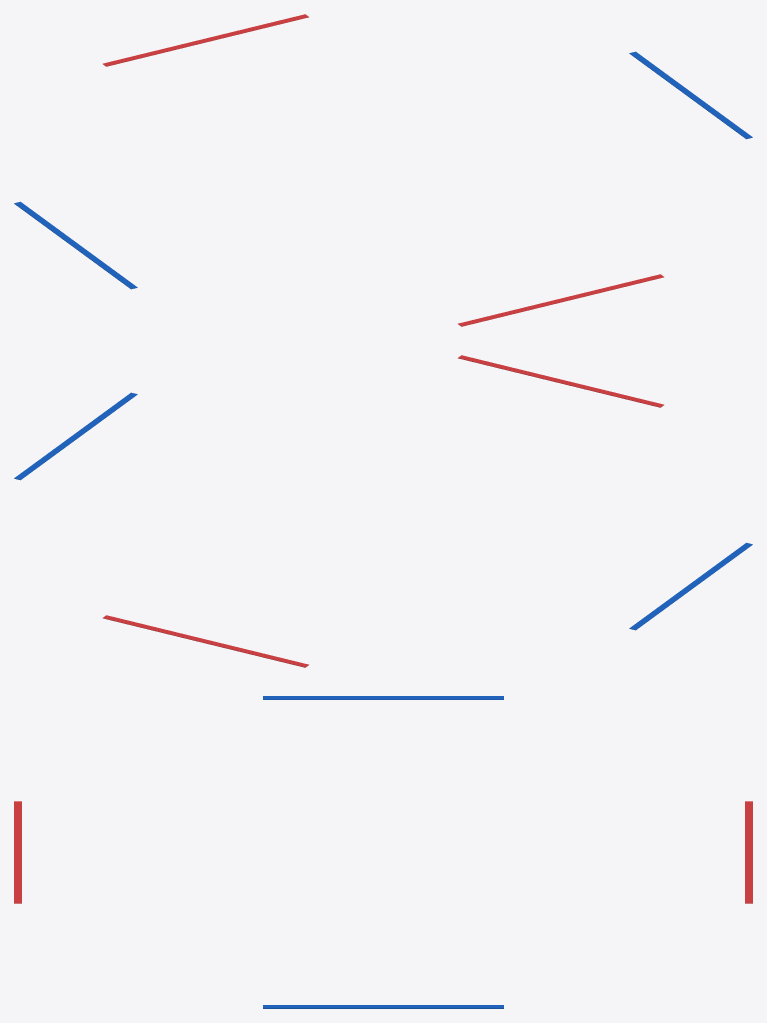
The picture shows the model from 3 angles, top to bottom: view 1: azimuth 30°, elevation 25°; view 2: azimuth 150°, elevation 25°; view 3: azimuth 270°, elevation 25°; orthographic projection. The views are drawn at different scales.
Bounding box in the file's own units: 93.44 × 0.05 × 93.44.
Materials: 2 (2 with a texture image).
